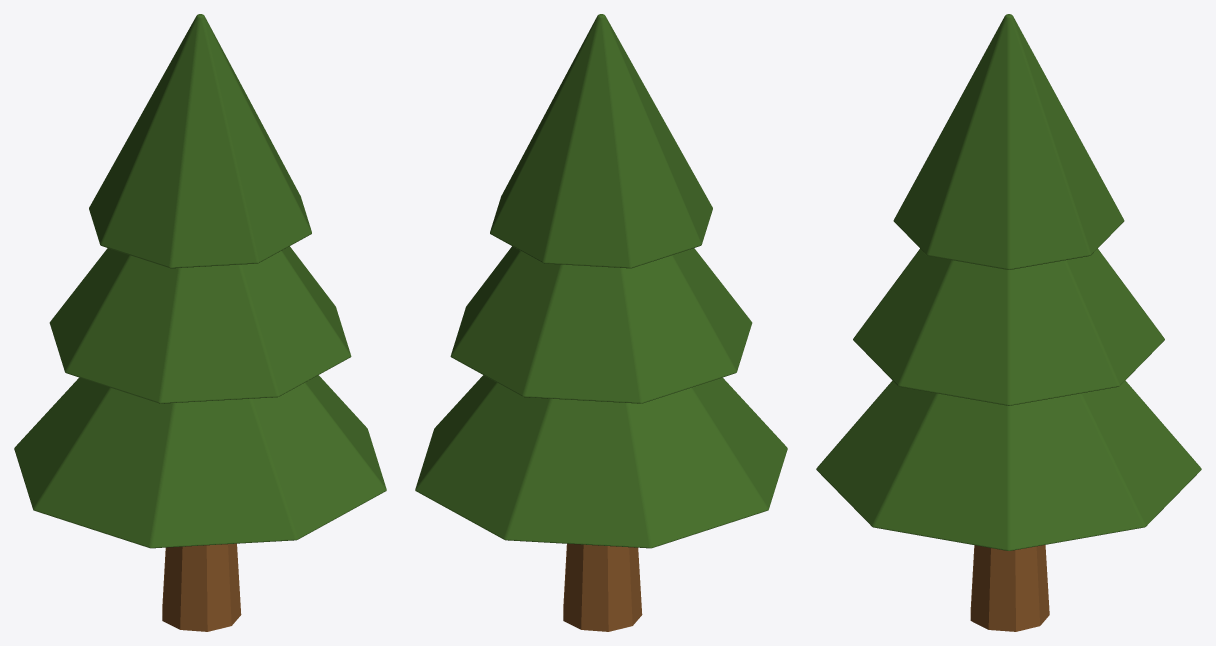
Rendered from pine.glb.
3 renders of one model, left to right at view 1: azimuth 30°, elevation 25°; view 2: azimuth 150°, elevation 25°; view 3: azimuth 270°, elevation 25°, orthographic.
Visible parts, largest first — view 1: rounded_pine_tier_0, rounded_pine_tier_1, rounded_pine_tier_2, chunky_pine_trunk; view 2: rounded_pine_tier_0, rounded_pine_tier_1, rounded_pine_tier_2, chunky_pine_trunk; view 3: rounded_pine_tier_0, rounded_pine_tier_1, rounded_pine_tier_2, chunky_pine_trunk.
Part boxes in pixels (box(x1,y1,x2,y2)): rounded_pine_tier_0: box(14, 375, 386, 548); rounded_pine_tier_1: box(49, 246, 351, 403); rounded_pine_tier_2: box(89, 14, 311, 268); chunky_pine_trunk: box(162, 543, 241, 631); rounded_pine_tier_0: box(415, 375, 787, 548); rounded_pine_tier_1: box(450, 246, 752, 403); rounded_pine_tier_2: box(490, 14, 712, 268); chunky_pine_trunk: box(563, 543, 642, 631); rounded_pine_tier_0: box(816, 380, 1201, 550); rounded_pine_tier_1: box(853, 248, 1164, 405); rounded_pine_tier_2: box(893, 14, 1124, 269); chunky_pine_trunk: box(970, 545, 1049, 631).
Bounding box in the file's own units: 3.97 × 6.83 × 3.97.
